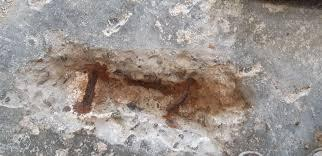exposed_rebar: (74, 65, 97, 113), (166, 91, 188, 113)
spalling: (0, 28, 262, 156)
